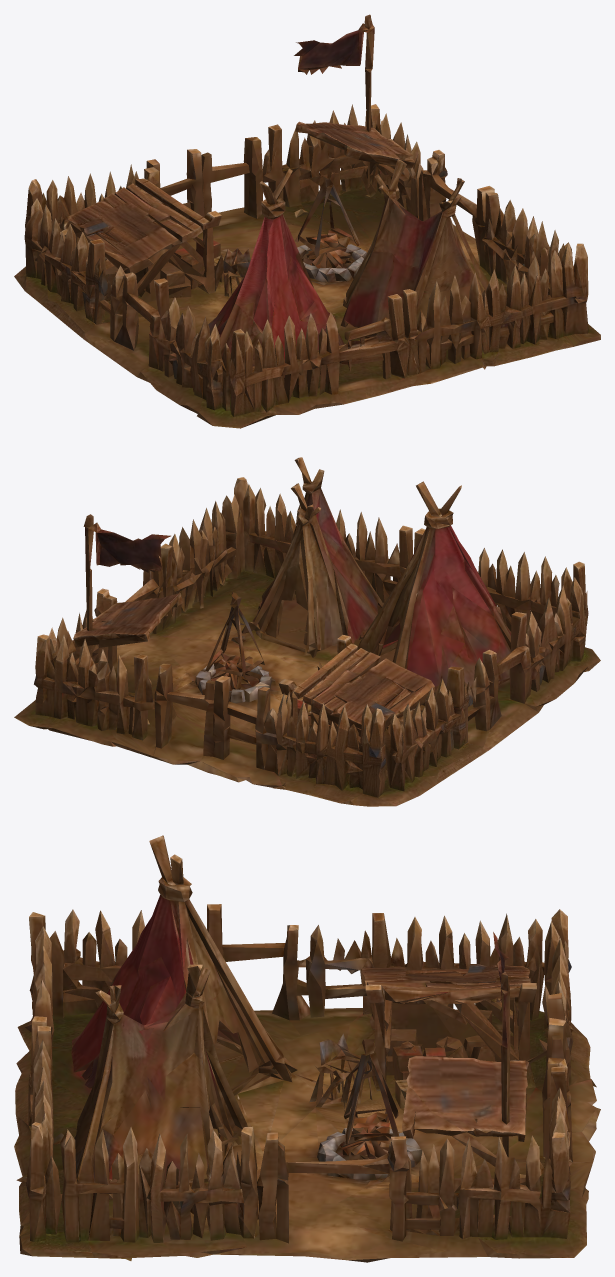
The model's file is bandit_camp.glb.
3 renders of one model, top to bottom at view 1: azimuth 30°, elevation 25°; view 2: azimuth 150°, elevation 25°; view 3: azimuth 270°, elevation 25°, orthographic. The views are drawn at different scales.
Parts seen in each view (by area): view 1: Mesh_0; view 2: Mesh_0; view 3: Mesh_0.
Boxes of the visible parts, left/top/right/bottom form: Mesh_0: left=14, top=14, right=600, bottom=428; Mesh_0: left=14, top=457, right=600, bottom=806; Mesh_0: left=14, top=835, right=600, bottom=1262.
Bounding box in the file's own units: 1.91 × 0.9122 × 1.89.
1 material, 1 textured.
